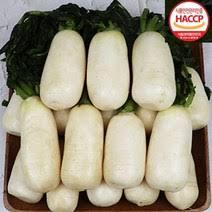radish: (7, 32, 21, 65), (43, 10, 59, 37), (13, 10, 29, 37), (49, 34, 63, 64), (20, 35, 34, 64), (28, 10, 43, 37), (35, 35, 49, 63)
